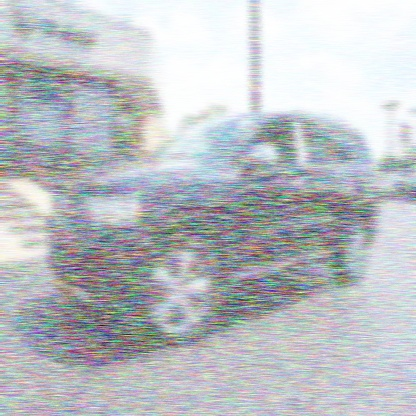Vehicle: (44, 109, 380, 346)
